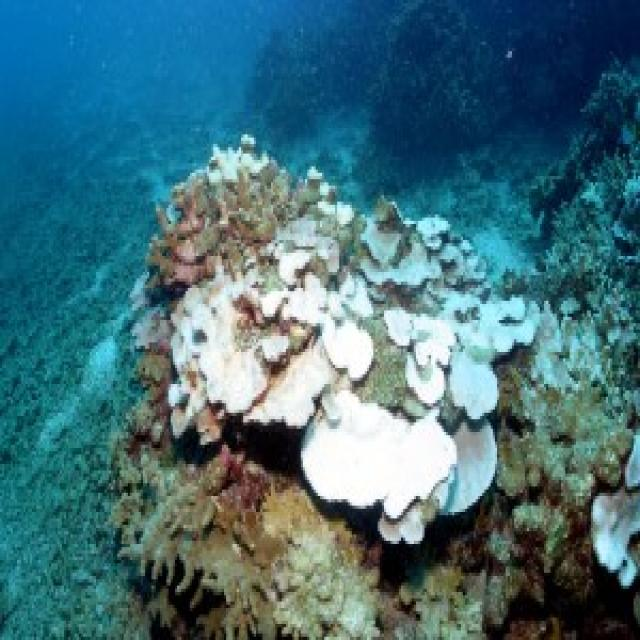Bleached: (302, 391, 455, 542), (387, 295, 534, 417), (172, 270, 289, 417), (242, 339, 345, 431), (283, 251, 372, 324), (323, 318, 370, 379)
